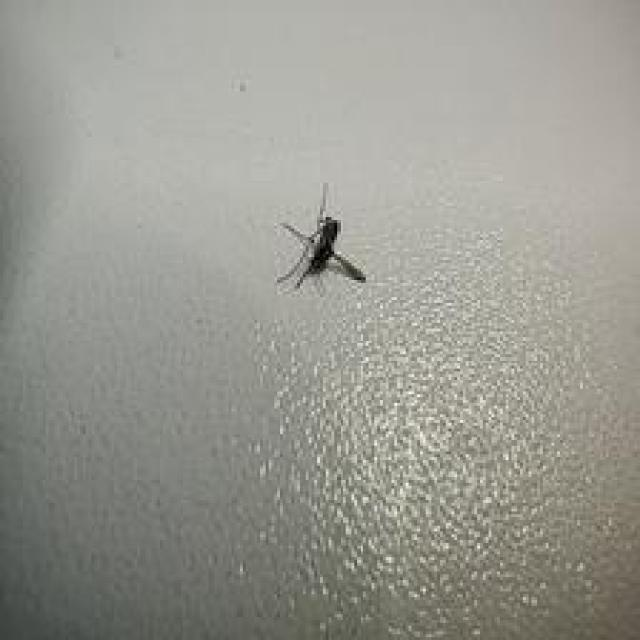Aedes albopictus: (273, 181, 367, 293)
